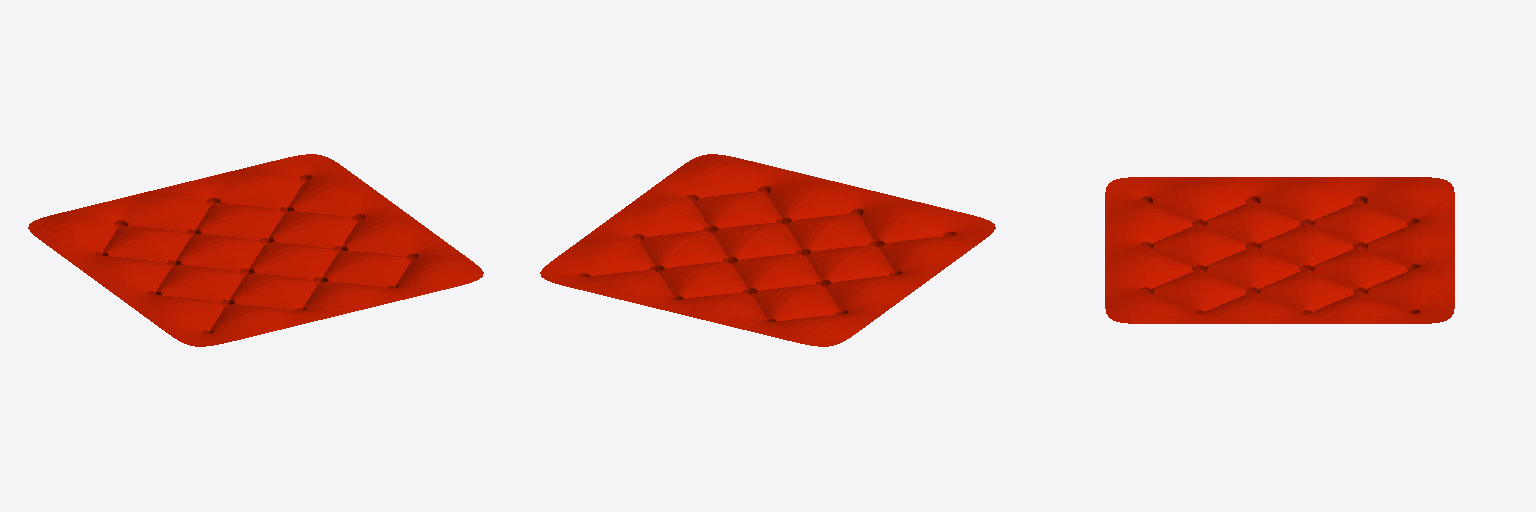
File: leather_cushion_texture.obj
The picture shows the model from 3 angles: view 1: azimuth 30°, elevation 25°; view 2: azimuth 150°, elevation 25°; view 3: azimuth 270°, elevation 25°; orthographic projection.
Parts seen in each view (by area): view 1: Plane; view 2: Plane; view 3: Plane.
Part boxes in pixels (x1,y1,x2,y2): Plane: (28, 154, 483, 346); Plane: (540, 154, 995, 346); Plane: (1105, 177, 1454, 323).
Bounding box in the file's own units: 3.72 × 0.2627 × 3.72.